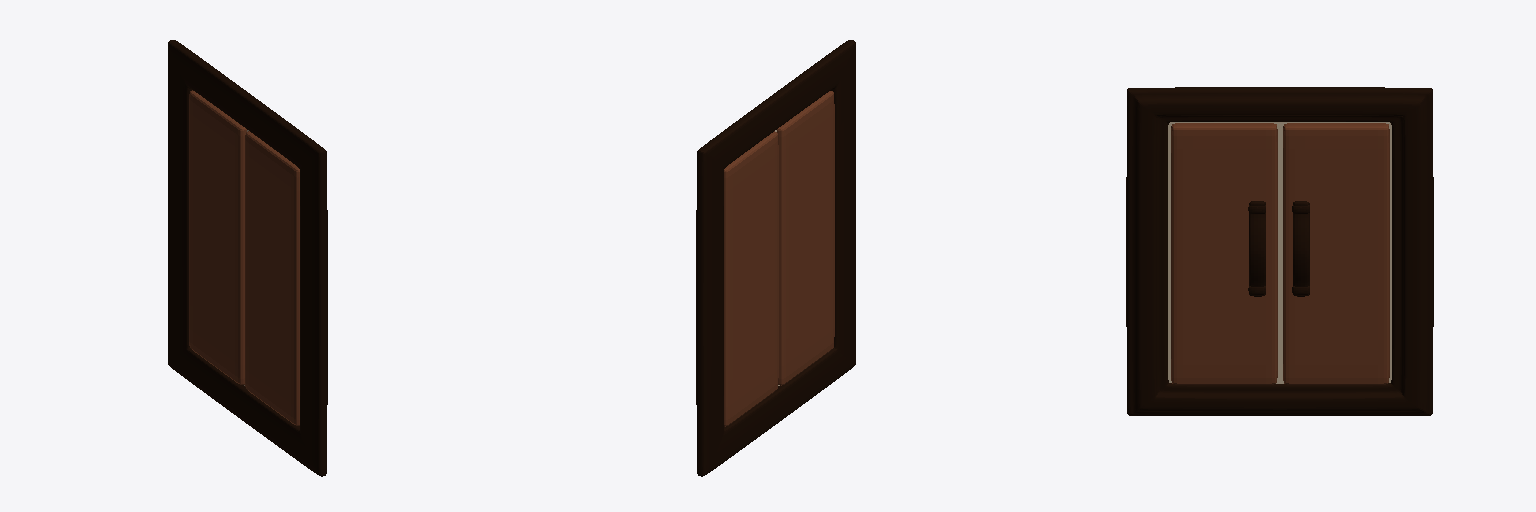
The model's file is wall_cabinet.obj.
3 views of the same model, side by side, from view 1: azimuth 30°, elevation 25°; view 2: azimuth 150°, elevation 25°; view 3: azimuth 270°, elevation 25° (orthographic).
Visible parts, largest first — view 1: Cube.075, Cube.011; view 2: Cube.075, Cube.011; view 3: Cube.075, Cube.011, Cube.065, Plane.038, Plane.037.
Part boxes in pixels (left/top/right/bottom): Cube.075: left=189, top=90, right=299, bottom=425; Cube.011: left=168, top=40, right=327, bottom=476; Cube.075: left=724, top=91, right=834, bottom=426; Cube.011: left=696, top=40, right=855, bottom=476; Cube.075: left=1171, top=123, right=1389, bottom=384; Cube.011: left=1126, top=87, right=1433, bottom=415; Cube.065: left=1168, top=122, right=1391, bottom=383; Plane.038: left=1249, top=201, right=1265, bottom=296; Plane.037: left=1293, top=201, right=1309, bottom=296.
Bounding box in the file's own units: 0.201 × 2.25 × 1.91.